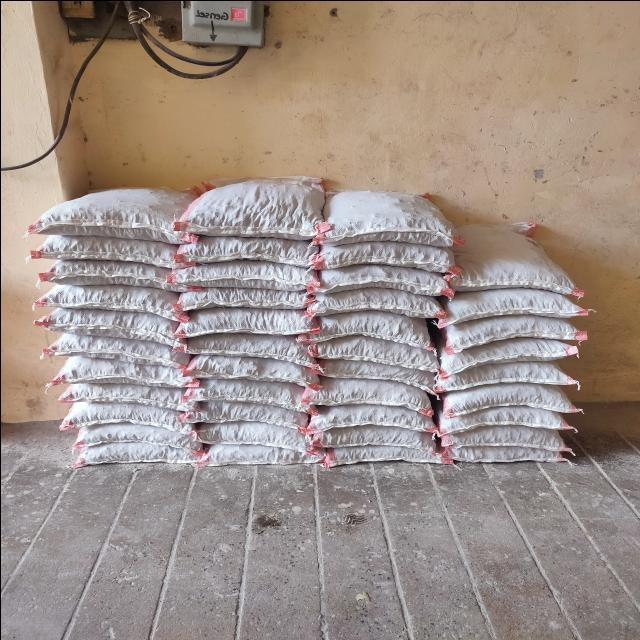Gravel: (36, 189, 190, 236), (456, 224, 567, 288), (327, 191, 449, 246), (197, 177, 319, 232), (444, 286, 585, 317), (435, 315, 579, 342), (432, 337, 576, 364), (436, 365, 580, 392), (436, 383, 580, 410), (433, 403, 577, 430), (187, 234, 315, 258), (182, 264, 310, 288), (175, 288, 303, 312), (177, 311, 305, 335), (184, 330, 312, 354), (182, 355, 310, 379), (186, 380, 314, 404), (183, 397, 311, 421), (183, 420, 311, 444), (180, 443, 308, 467), (74, 442, 202, 466), (74, 420, 202, 444), (68, 400, 196, 424), (63, 381, 191, 405), (63, 357, 191, 381), (57, 333, 185, 357), (50, 309, 178, 333), (44, 282, 172, 306), (45, 263, 173, 287), (44, 238, 172, 262), (432, 426, 577, 446), (442, 445, 573, 464), (319, 445, 450, 464), (314, 429, 445, 448), (313, 408, 444, 427), (306, 382, 437, 401), (313, 361, 444, 380), (312, 344, 443, 363), (311, 316, 442, 335), (317, 287, 448, 306), (317, 268, 448, 287), (321, 243, 452, 262)
